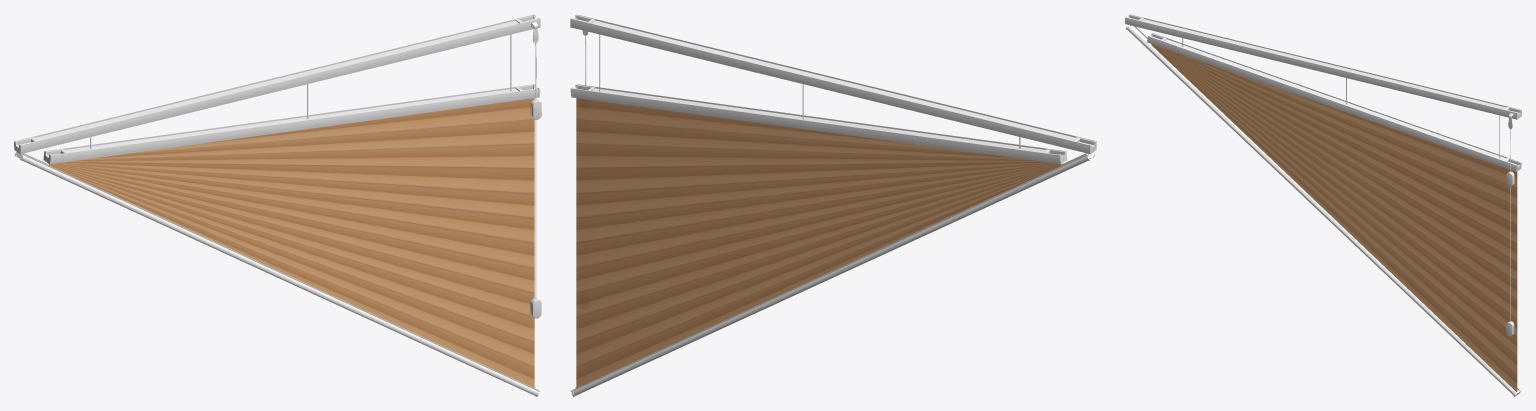
Rendered from FD Slope 4.glb.
The picture shows the model from 3 angles, left to right: view 1: azimuth 30°, elevation 25°; view 2: azimuth 150°, elevation 25°; view 3: azimuth 330°, elevation 25°; orthographic projection. The views are drawn at different scales.
Visible parts, largest first — view 1: Plane.005, Cube.012, Cube.001, Cube.014, BezierCurve.008; view 2: Plane.005, Cube.012, Cube.001, Cube.014; view 3: Plane.005, Cube.012, Cube.001, Cube.014.
Boxes of the visible parts, left/top/right/bottom form: Plane.005: left=49, top=98, right=534, bottom=388; Cube.012: left=16, top=14, right=538, bottom=153; Cube.001: left=47, top=84, right=538, bottom=163; Cube.014: left=22, top=153, right=538, bottom=395; BezierCurve.008: left=535, top=41, right=536, bottom=298; Plane.005: left=576, top=98, right=1061, bottom=387; Cube.012: left=572, top=14, right=1093, bottom=153; Cube.001: left=572, top=84, right=1063, bottom=163; Cube.014: left=572, top=153, right=1087, bottom=395; Plane.005: left=1151, top=44, right=1517, bottom=391; Cube.012: left=1126, top=14, right=1519, bottom=119; Cube.001: left=1148, top=33, right=1519, bottom=171; Cube.014: left=1127, top=25, right=1520, bottom=395.
Bounding box in the file's own units: 0.9999 × 0.694 × 0.0349.
Materials: 5 (1 with a texture image).
